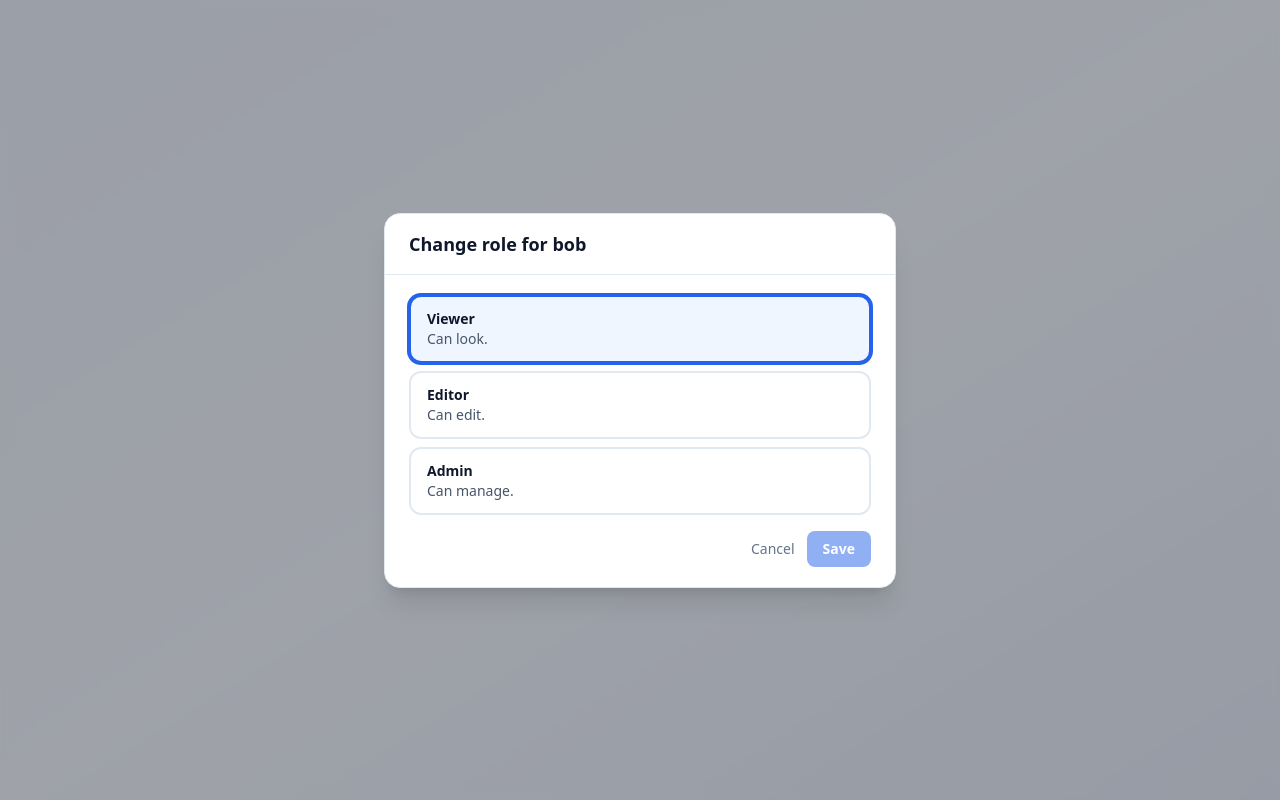
Test: RoleDialog › disables Save while the selection is unchanged
Expected: the button "Save" is disabled, 807,530 -> 871,566
What coordinates should you click on to do the following:
click the radio button labelled "Admin Can manage."
I would click on:
 (450, 470)
Its box is 409,446 -> 871,514.
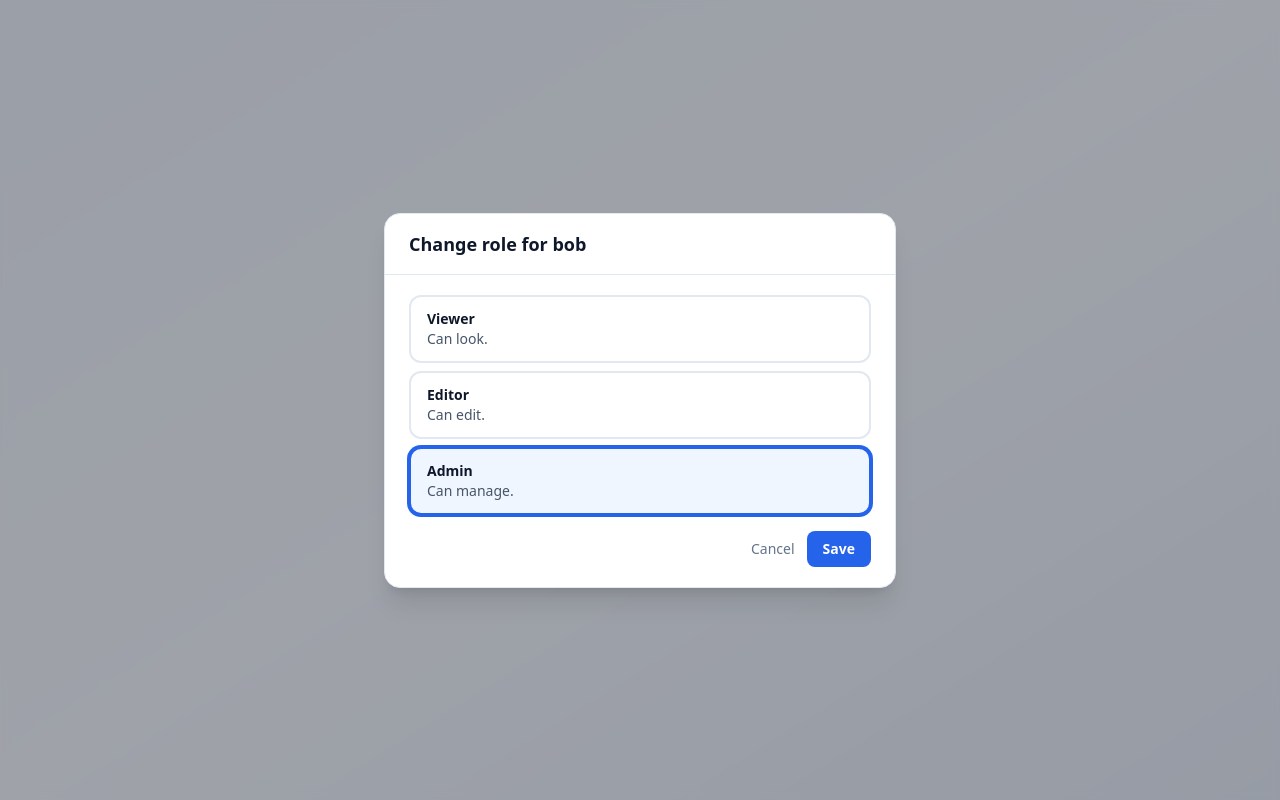
Result: the button "Save" is enabled at 807,530 -> 871,566
What coordinates should you click on to do the following:
click the radio button labelled "Viewer Can look."
I would click on:
 (451, 318)
Its box is 409,294 -> 871,362.
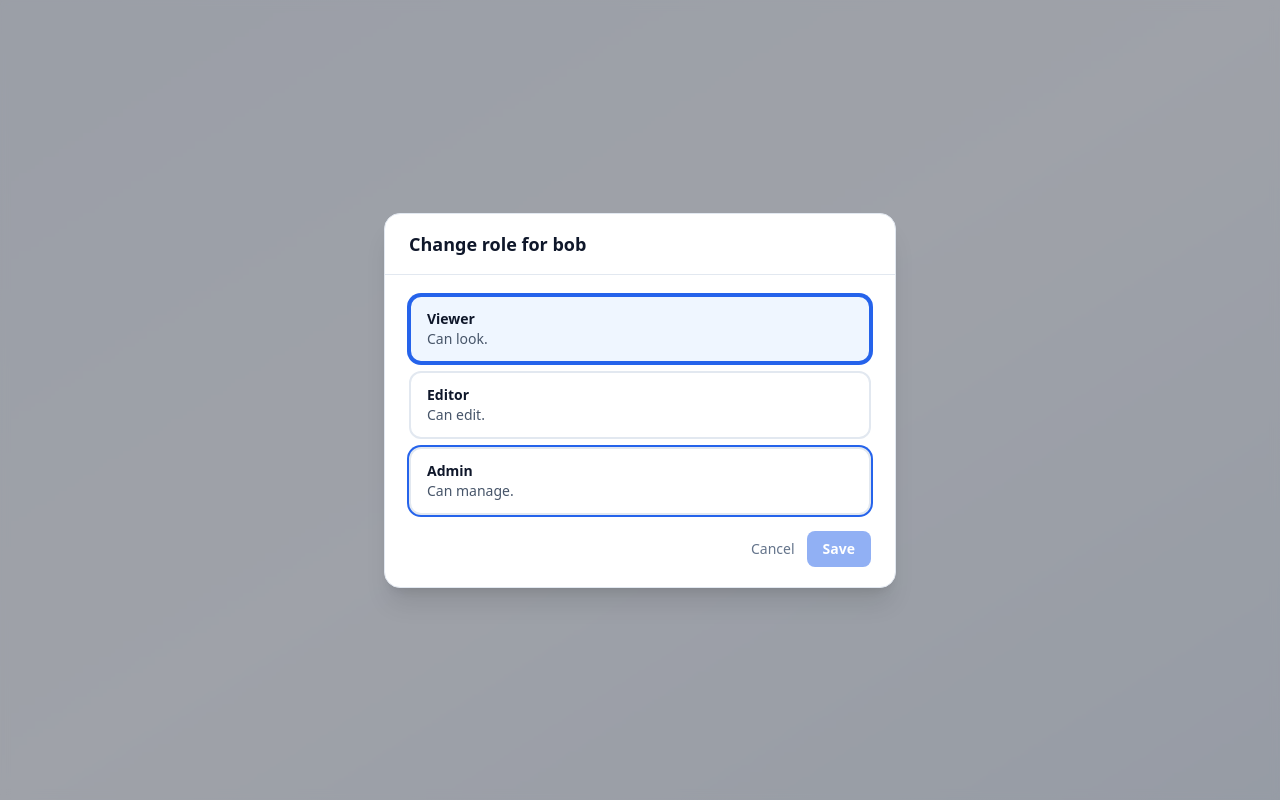
Result: the button "Save" is disabled at 807,530 -> 871,566
